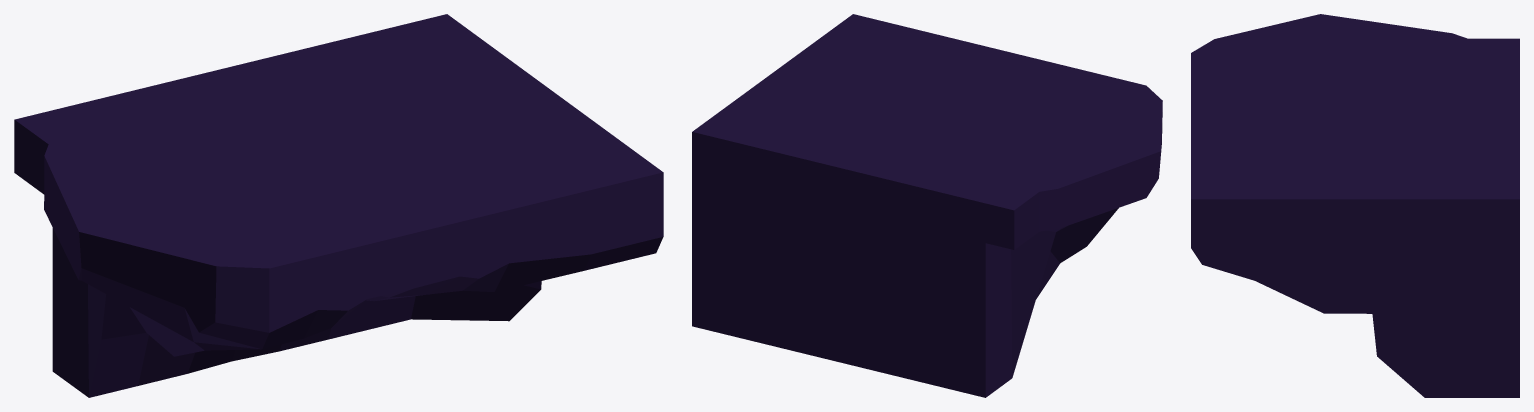
Rendered from cave_cliff_top_001_msh.fbx.
3 views of the same model, side by side, from view 1: azimuth 30°, elevation 25°; view 2: azimuth 150°, elevation 25°; view 3: azimuth 270°, elevation 25° (orthographic). The views are drawn at different scales.
Visible parts, largest first — view 1: cave_cliff_top_001_msh; view 2: cave_cliff_top_001_msh; view 3: cave_cliff_top_001_msh.
Boxes of the visible parts, bbox=[...] form: cave_cliff_top_001_msh: bbox=[14, 14, 663, 397]; cave_cliff_top_001_msh: bbox=[692, 14, 1162, 397]; cave_cliff_top_001_msh: bbox=[1191, 14, 1519, 397].
Bounding box in the file's own units: 799 × 400 × 600.
